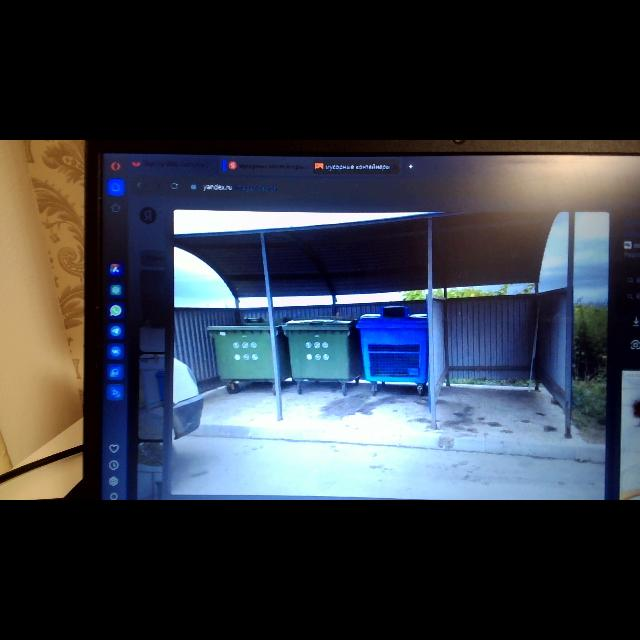Trash_Can_Closed: (283, 318, 362, 382)
Trash_Can_Empty: (356, 313, 429, 383), (207, 322, 290, 383)
